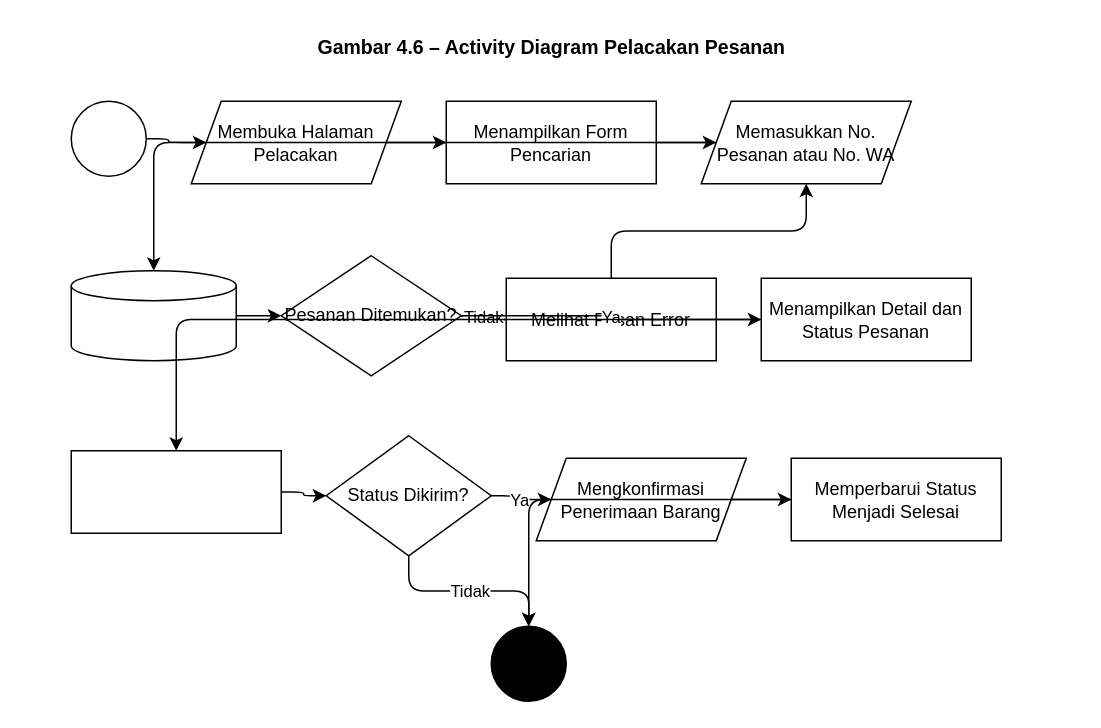
Some shapes in this 1101 by 728 pixel diagram are drawn without their labels. The shapes that lost their labels are listed below. From the top down, each one's centre as x and y in pixels, then its label:
At (108,138): "START".
At (153,315): "Mencari Data Pesanan".
At (175,491): "Melihat Detail dan Timeline Pesanan".
At (528,663): "END".
